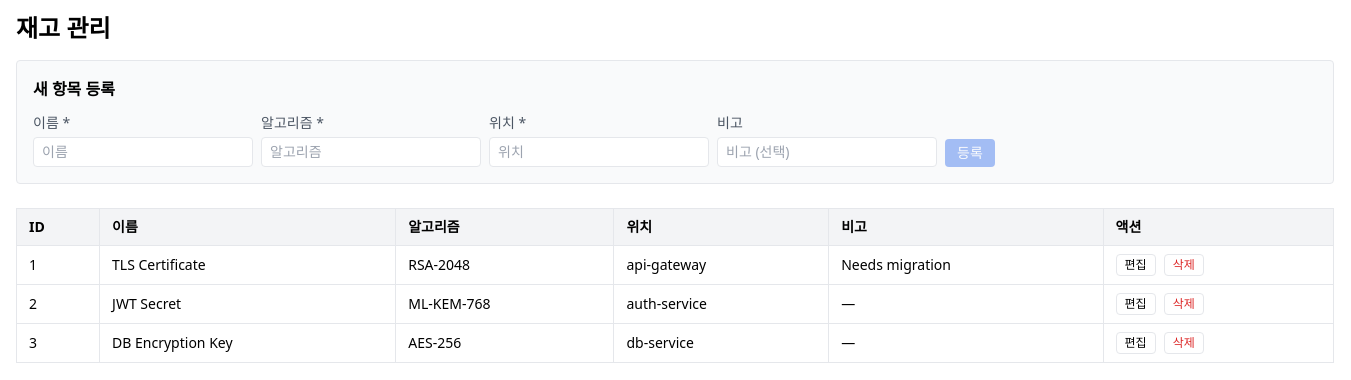
Test: InventoryPage › 삭제 취소 시 항목 유지
Check: the text "TLS Certificate" is shown, box [100,246,396,284]
Click the button with aria-label "삭제 TLS Certificate": (1184, 265) [1164,254,1204,276]
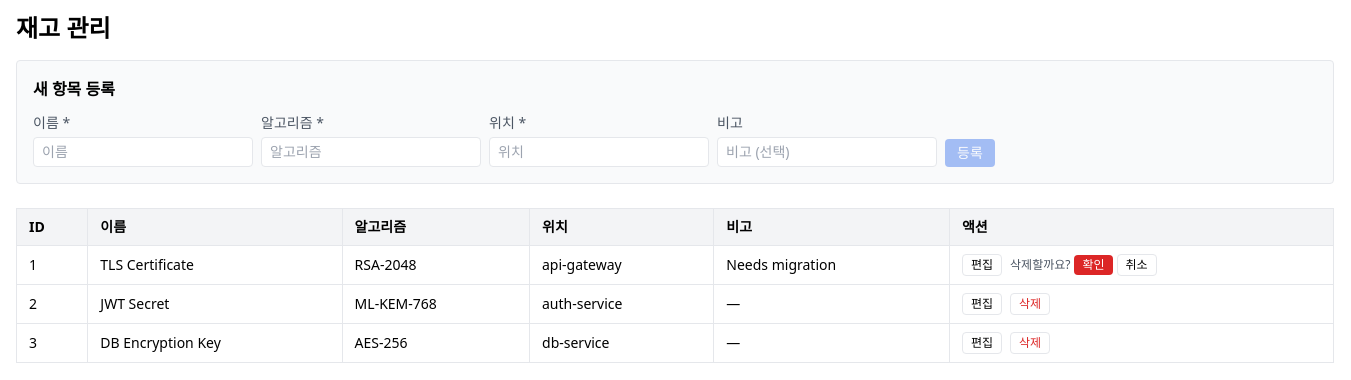
Click the button "취소": (1137, 265) [1117,254,1157,276]
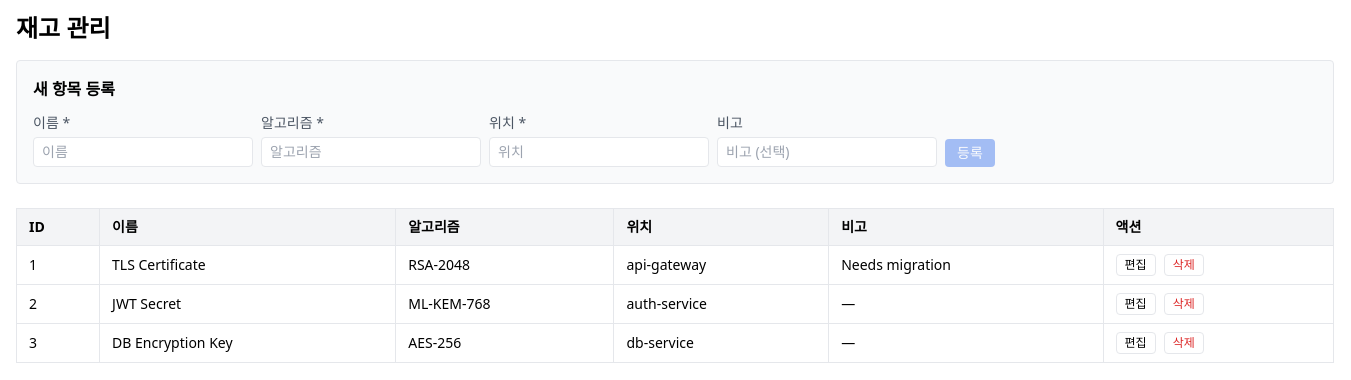
Check: the text "TLS Certificate" is shown, box [100,246,396,284]
Check: the text "삭제할까요?" is gone
